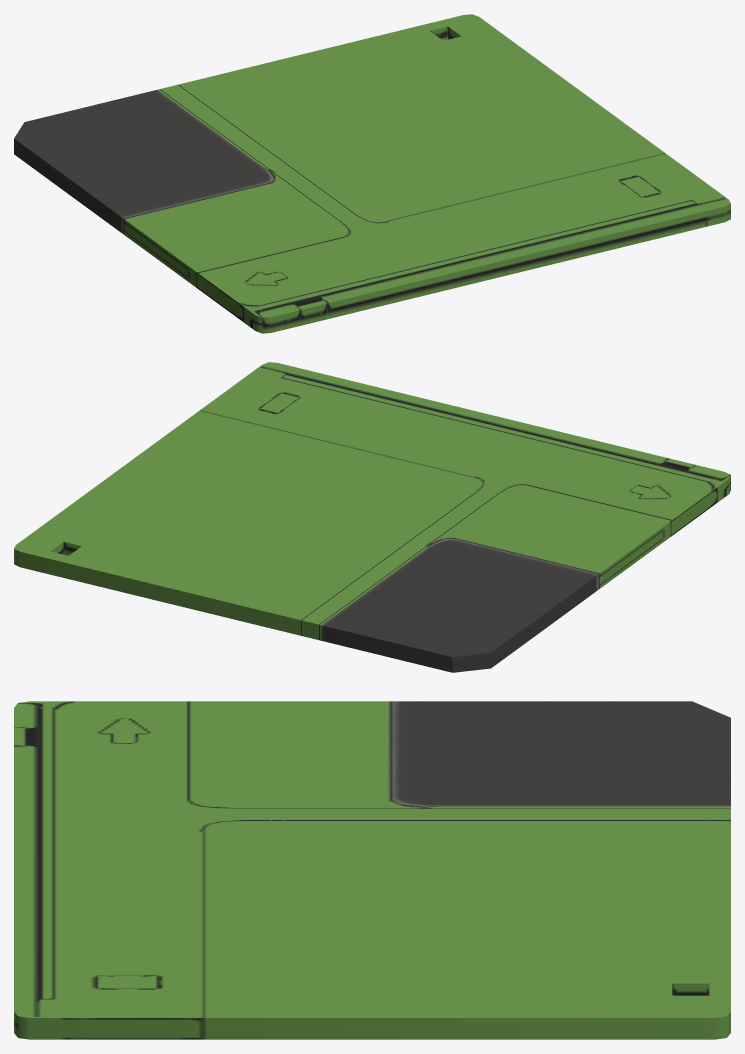
Rendered from floppy_green.glb.
3 renders of one model, top to bottom at view 1: azimuth 30°, elevation 25°; view 2: azimuth 150°, elevation 25°; view 3: azimuth 270°, elevation 25°, orthographic. The views are drawn at different scales.
Parts seen in each view (by area): view 1: disk1; view 2: disk1; view 3: disk1.
Boxes of the visible parts, <box> form: disk1: <box>14,14,730,333</box>; disk1: <box>14,362,730,672</box>; disk1: <box>14,701,730,1039</box>.
Bounding box in the file's own units: 3.7 × 0.1181 × 3.54.
1 material, 1 textured.
